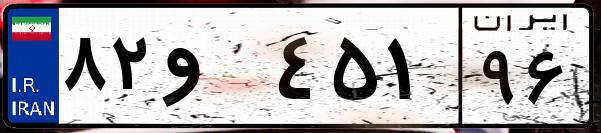1: (385, 28, 445, 110)
2: (110, 28, 158, 98)
4: (270, 28, 330, 110)
5: (330, 28, 385, 110)
6: (525, 38, 570, 115)
8: (57, 26, 110, 100)
9: (475, 38, 525, 113)
و: (158, 20, 270, 120)
